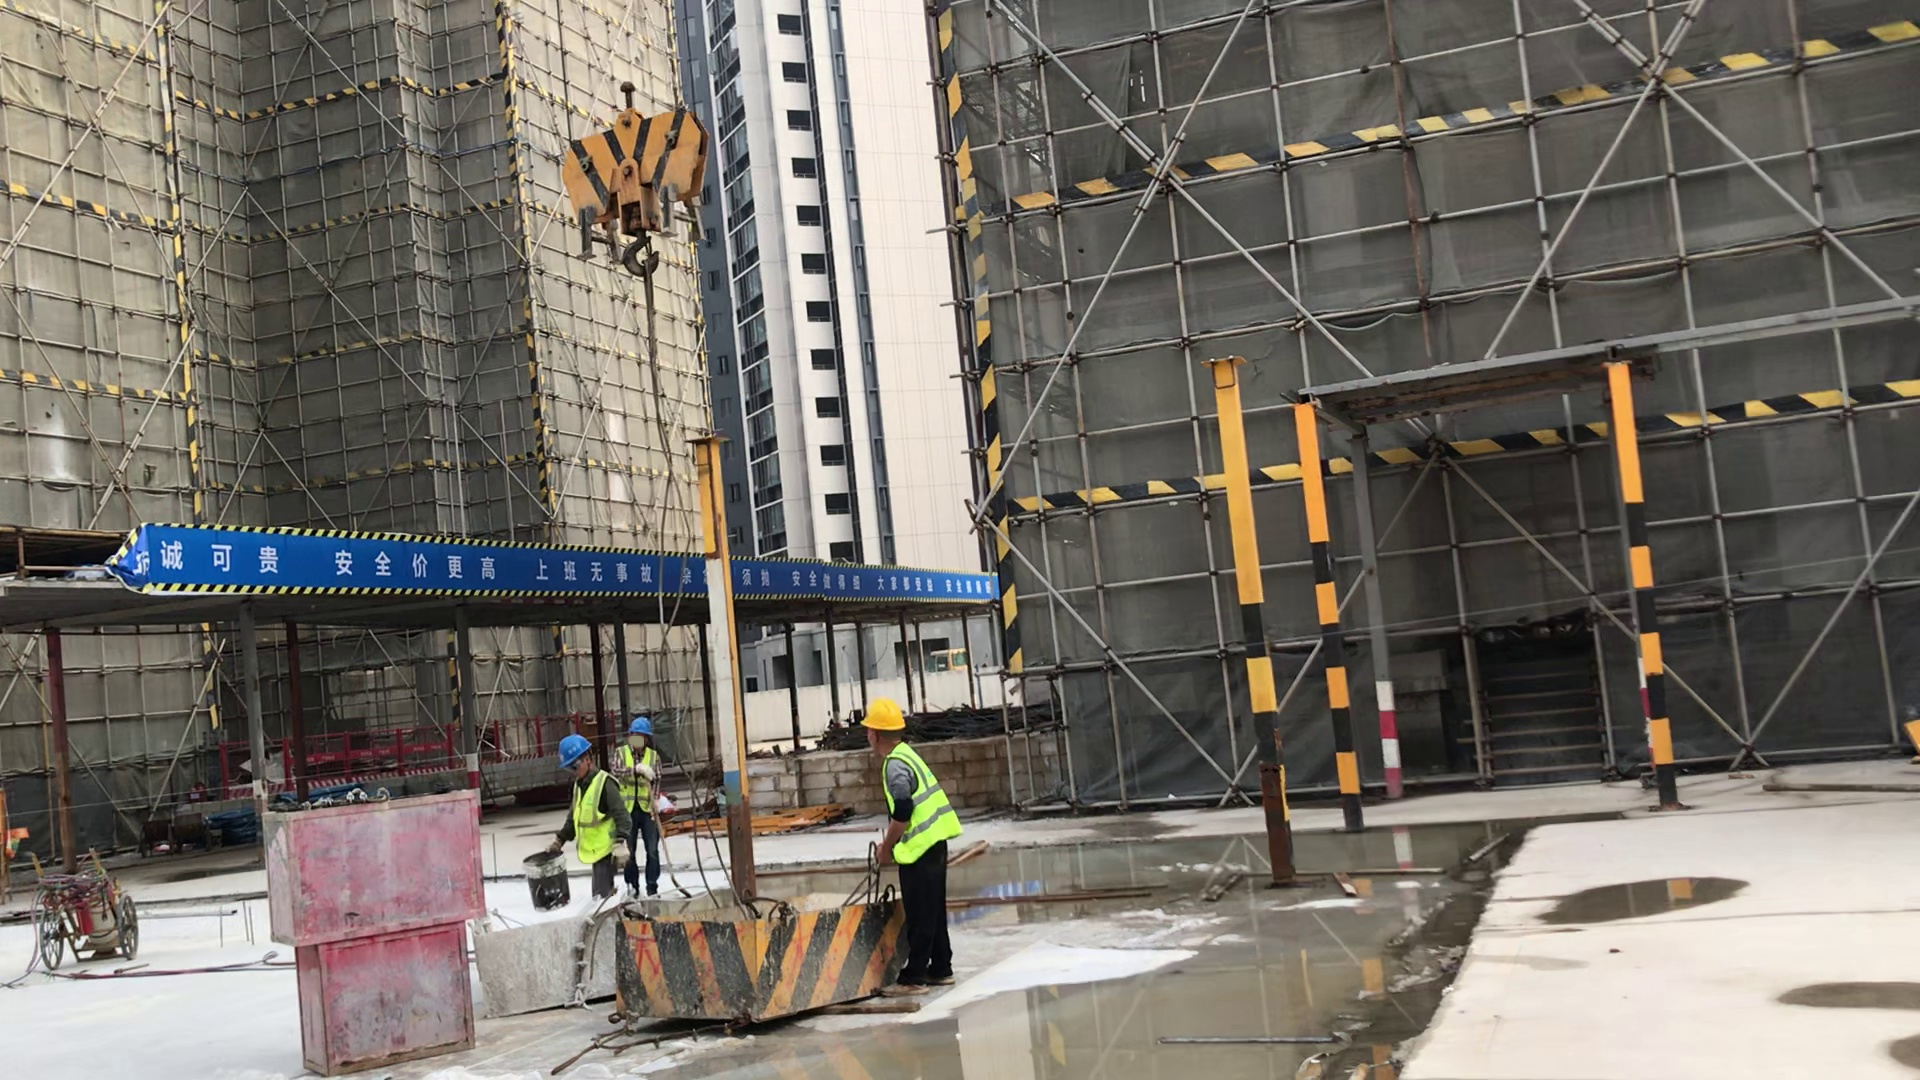fence: (200, 716, 601, 772)
handcart: (1, 830, 152, 974)
helmet: (855, 687, 904, 742), (622, 702, 658, 749), (547, 731, 595, 763)
hook: (551, 91, 703, 272)
hopper: (584, 865, 923, 1031), (466, 894, 626, 1020)
person: (847, 706, 963, 1001), (537, 731, 638, 931), (608, 705, 674, 902)
slogan: (117, 520, 1006, 615)
vest: (873, 749, 964, 867), (552, 769, 619, 875), (615, 746, 649, 811)
